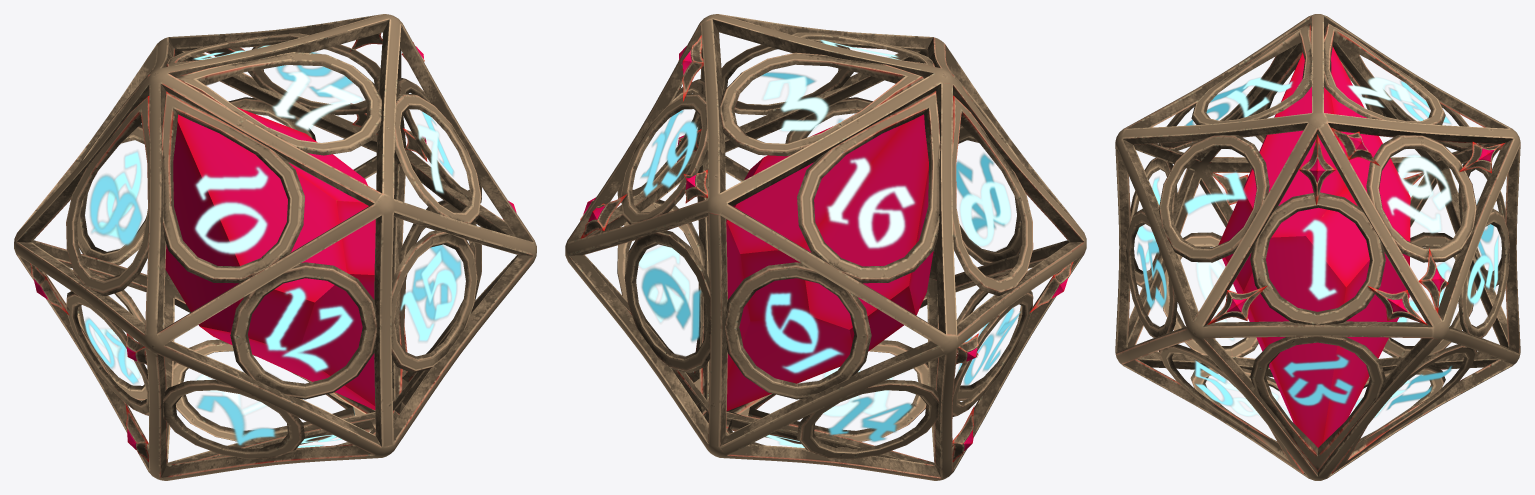
Rendered from fel_d20.glb.
3 renders of one model, left to right at view 1: azimuth 30°, elevation 25°; view 2: azimuth 150°, elevation 25°; view 3: azimuth 270°, elevation 25°, orthographic. The views are drawn at different scales.
Parts seen in each view (by area): view 1: d20Fel; view 2: d20Fel; view 3: d20Fel.
Boxes of the visible parts, bbox=[...] form: d20Fel: bbox=[14, 14, 536, 480]; d20Fel: bbox=[565, 14, 1086, 480]; d20Fel: bbox=[1115, 14, 1520, 480].
Bounding box in the file's own units: 162 × 162 × 162.
1 material, 1 textured.
